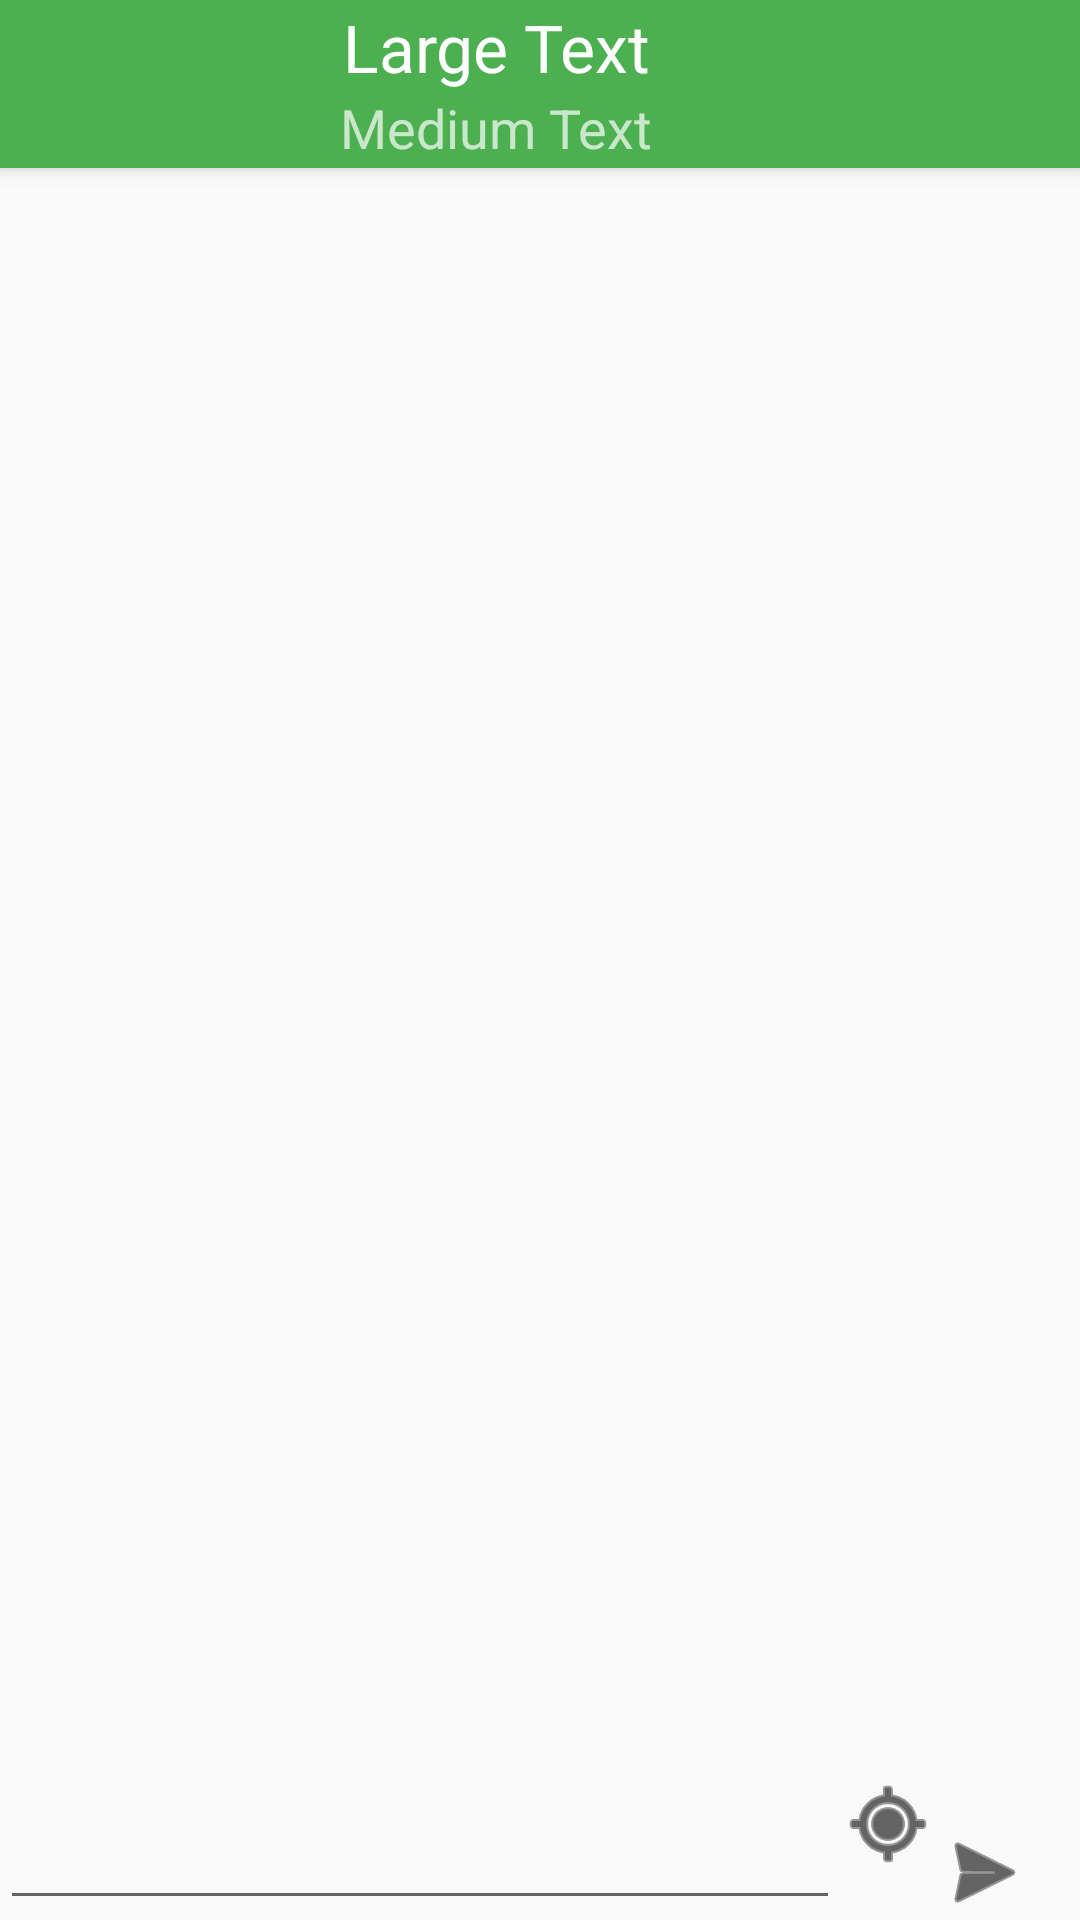

Icon bounding boxes for this 1080 x 1920 phone screenshot, format (x1, y1, x2, y2):
mylocation: (850, 1786, 926, 1862)
send: (954, 1842, 1016, 1903)
